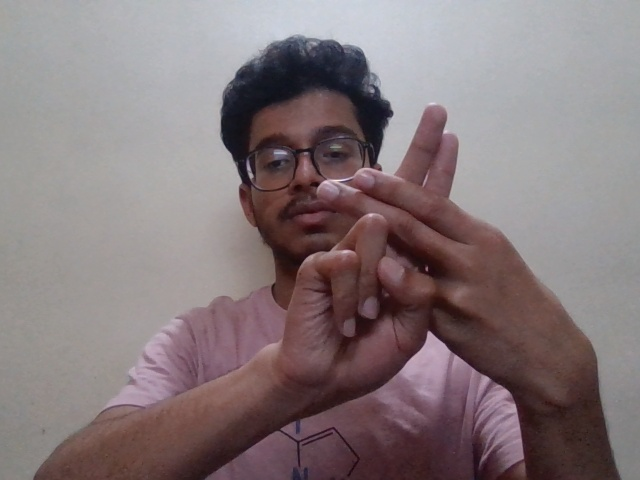disabled: (266, 100, 615, 418)
